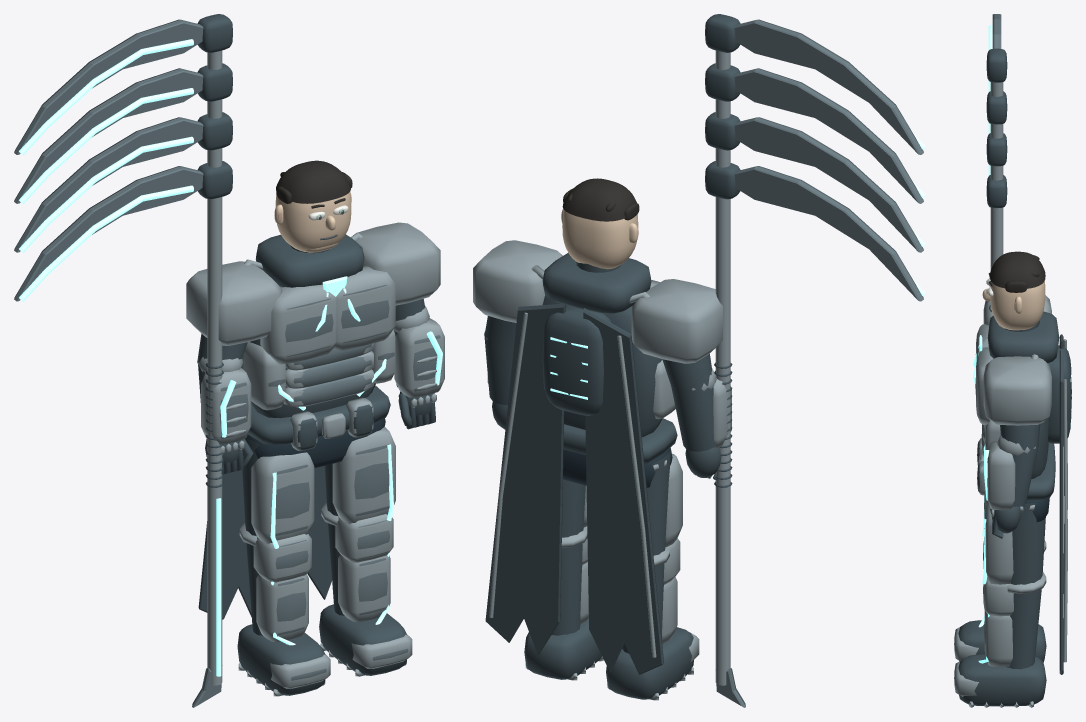
The model's file is croxian_unhelmeted.glb.
3 views of the same model, side by side, from view 1: azimuth 30°, elevation 25°; view 2: azimuth 150°, elevation 25°; view 3: azimuth 270°, elevation 25° (orthographic). The views are drawn at different scales.
Visible parts, largest first — view 1: Scythe staff, Shoulder leftArm bevel, Shoulder rightArm bevel, Scythe blade 2, Scythe blade 3, Scythe blade 1, Scythe blade 0, Cowl, Thigh leftLeg bevel, Pectoral armour -1 bevel, Torn battle cloak -1, Thigh rightLeg bevel (+42 smaller); view 2: Torn battle cloak -1, Torn battle cloak 1, Scythe staff, Shoulder leftArm bevel, Spinal power pack, Scythe blade 2, Scythe blade 3, Scythe blade 0, Scythe blade 1, Shoulder rightArm bevel, Cowl, Sleeve leftArm (+21 smaller); view 3: Shoulder rightArm bevel, Articulated leg rightLeg, Boot rightLeg, Cowl, Croxian Face, Sleeve rightArm, Forearm rightArm bevel, Torn battle cloak 1, Thigh rightLeg bevel, Croxian Hair cap, Shin rightLeg bevel, Spinal power pack (+22 smaller).
Part boxes in pixels (x1,y1,x2,y2): Scythe staff: [207, 50, 222, 685]; Shoulder leftArm bevel: [186, 261, 282, 345]; Shoulder rightArm bevel: [356, 222, 440, 305]; Scythe blade 2: [14, 68, 203, 203]; Scythe blade 3: [14, 19, 203, 154]; Scythe blade 1: [14, 117, 203, 252]; Scythe blade 0: [14, 166, 203, 301]; Cowl: [255, 234, 364, 287]; Thigh leftLeg bevel: [251, 452, 314, 544]; Pectoral armour -1 bevel: [260, 284, 336, 364]; Torn battle cloak -1: [198, 356, 251, 619]; Thigh rightLeg bevel: [332, 427, 395, 524]; Torn battle cloak -1: [583, 308, 663, 674]; Torn battle cloak 1: [485, 303, 566, 654]; Scythe staff: [715, 50, 730, 685]; Shoulder leftArm bevel: [631, 279, 722, 363]; Spinal power pack: [542, 305, 610, 415]; Scythe blade 2: [734, 68, 923, 203]; Scythe blade 3: [734, 19, 923, 154]; Scythe blade 0: [734, 166, 923, 301]; Scythe blade 1: [734, 117, 923, 252]; Shoulder rightArm bevel: [473, 240, 562, 322]; Cowl: [542, 253, 651, 313]; Sleeve leftArm: [662, 353, 715, 451]; Shoulder rightArm bevel: [983, 356, 1051, 425]; Articulated leg rightLeg: [1006, 503, 1045, 669]; Boot rightLeg: [958, 654, 1046, 706]; Cowl: [987, 311, 1059, 363]; Croxian Face: [990, 281, 1045, 330]; Sleeve rightArm: [1000, 424, 1040, 506]; Forearm rightArm bevel: [987, 441, 1015, 510]; Torn battle cloak 1: [1059, 349, 1063, 674]; Thigh rightLeg bevel: [984, 501, 1013, 584]; Croxian Hair cap: [990, 251, 1045, 288]; Shin rightLeg bevel: [984, 611, 1012, 666]; Spinal power pack: [1048, 345, 1071, 443].
Bounding box in the file's own units: 3.66 × 5.65 × 1.02.
